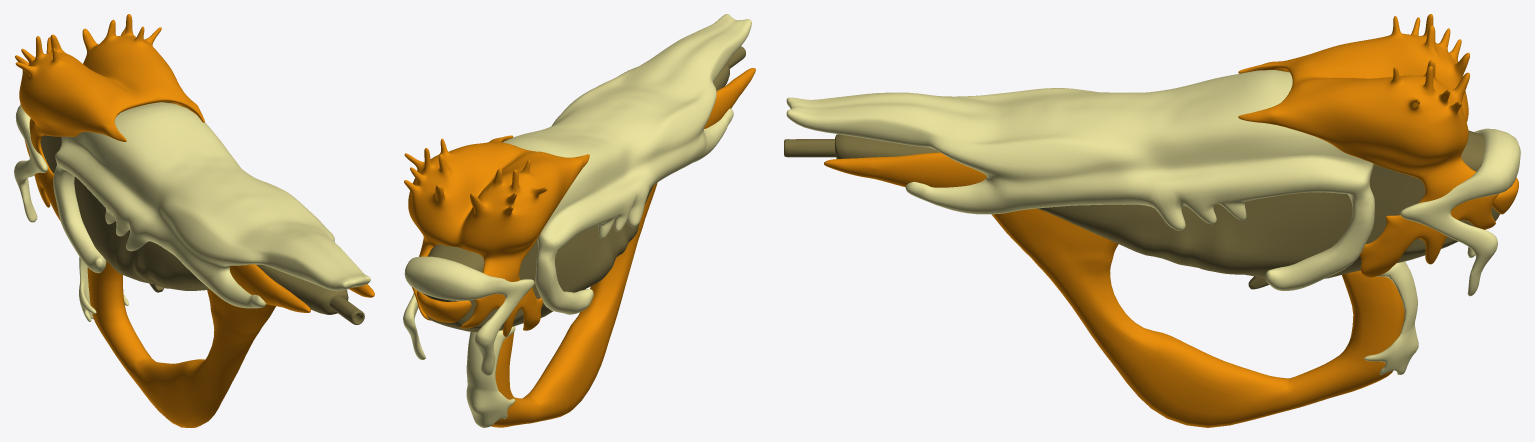
File: Uzi_Low_poly.fbx
The picture shows the model from 3 angles, left to right: view 1: azimuth 30°, elevation 25°; view 2: azimuth 150°, elevation 25°; view 3: azimuth 270°, elevation 25°; orthographic projection. The views are drawn at different scales.
Visible parts, largest first — view 1: Amarillo, Picos, Mango, Uzi, Canon; view 2: Amarillo, Picos, Mango, Uzi; view 3: Amarillo, Picos, Mango, Uzi, Canon.
Part boxes in pixels (x1,y1,x2,y2): Amarillo: [14, 102, 370, 321]; Picos: [15, 14, 374, 312]; Mango: [87, 260, 275, 427]; Uzi: [40, 135, 348, 314]; Canon: [330, 295, 364, 324]; Amarillo: [403, 14, 751, 427]; Picos: [404, 68, 755, 336]; Mango: [491, 182, 657, 427]; Uzi: [422, 63, 729, 332]; Amarillo: [786, 70, 1520, 374]; Picos: [824, 14, 1518, 277]; Mango: [991, 208, 1404, 427]; Uzi: [834, 130, 1499, 278]; Canon: [784, 139, 835, 157].
Bounding box in the file's own units: 69.28 × 149 × 258.
